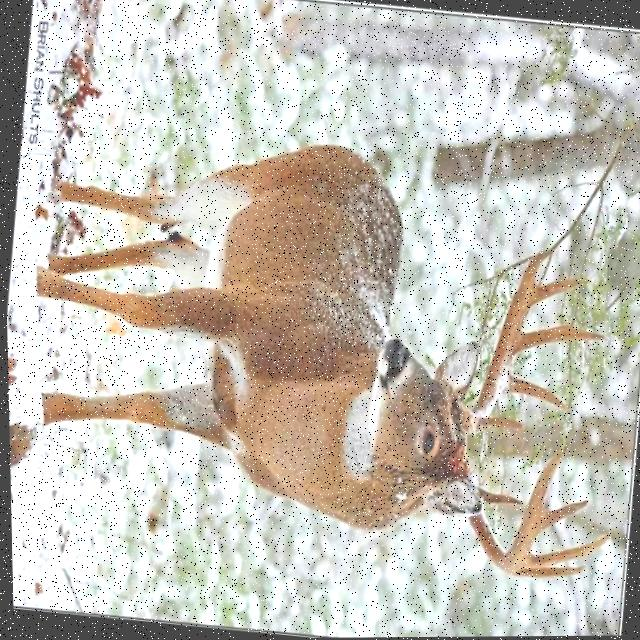L-G1: (474, 486, 521, 504)
L-G3: (516, 533, 608, 569)
L-G4: (536, 499, 586, 532)
R-G1: (475, 417, 522, 431)
R-G2: (500, 372, 566, 410)
R-G3: (515, 323, 603, 352)
R-G4: (528, 277, 579, 306)
